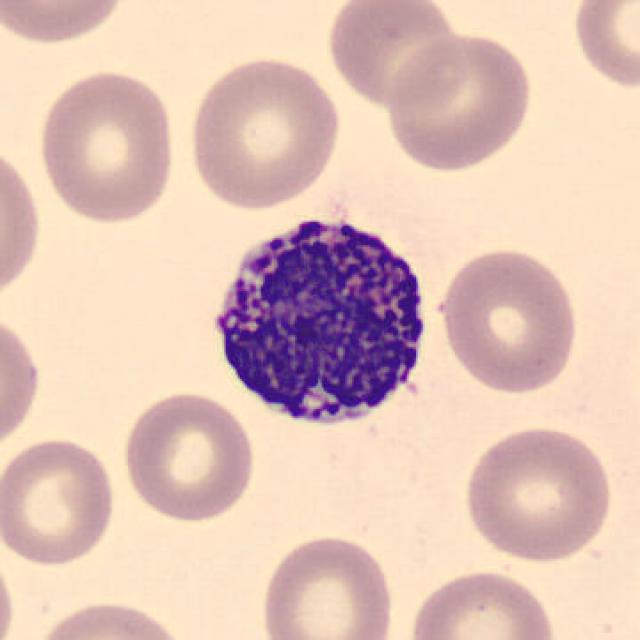Basophil: (199, 197, 439, 441)
RBC: (183, 51, 345, 212), (34, 65, 180, 226), (382, 28, 537, 175), (459, 420, 615, 566), (434, 243, 581, 397), (118, 386, 260, 526), (0, 432, 121, 569), (322, 0, 468, 111), (256, 529, 398, 640), (404, 564, 558, 640), (0, 137, 46, 310), (28, 596, 190, 640), (0, 305, 44, 460), (567, 0, 638, 93), (0, 0, 133, 47), (0, 541, 20, 640)
